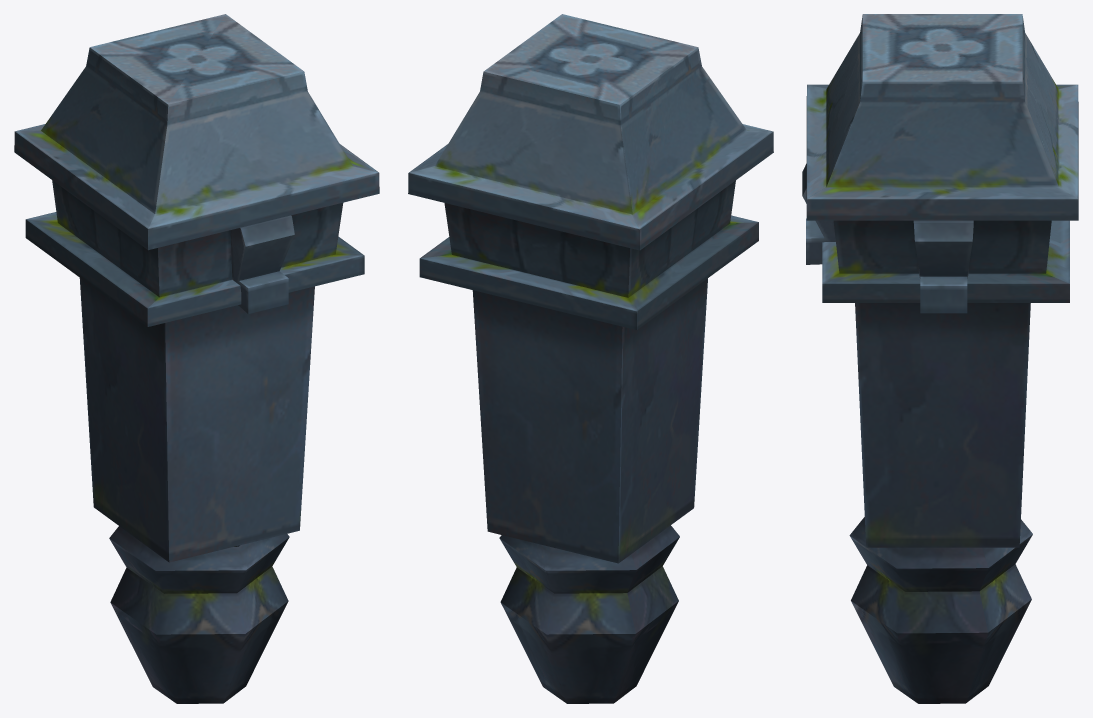
The model's file is fb_tys_zj_02_f.FBX.
3 views of the same model, side by side, from view 1: azimuth 30°, elevation 25°; view 2: azimuth 150°, elevation 25°; view 3: azimuth 270°, elevation 25° (orthographic).
Parts seen in each view (by area): view 1: fb_tys_zj_02_f; view 2: fb_tys_zj_02_f; view 3: fb_tys_zj_02_f.
Part boxes in pixels (x1,y1,x2,y2): fb_tys_zj_02_f: (14, 14, 379, 703); fb_tys_zj_02_f: (408, 14, 773, 703); fb_tys_zj_02_f: (802, 14, 1078, 703).
Size of the model in its own units: 232 by 585 by 230.
